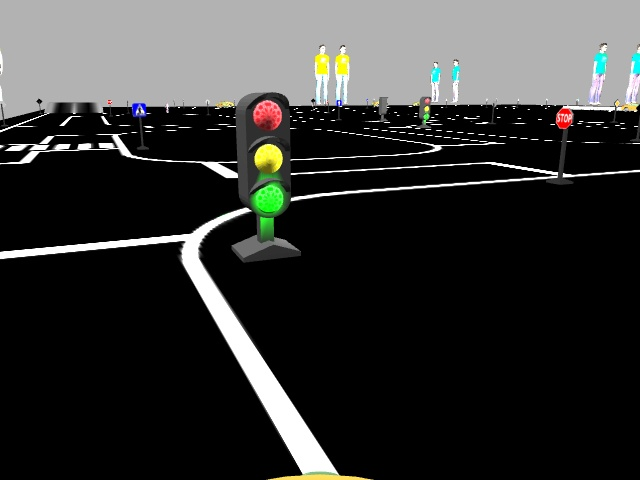Crosswalk: (132, 102, 145, 116)
Stop: (553, 108, 571, 128)
TrafficLight: (235, 93, 293, 216)
